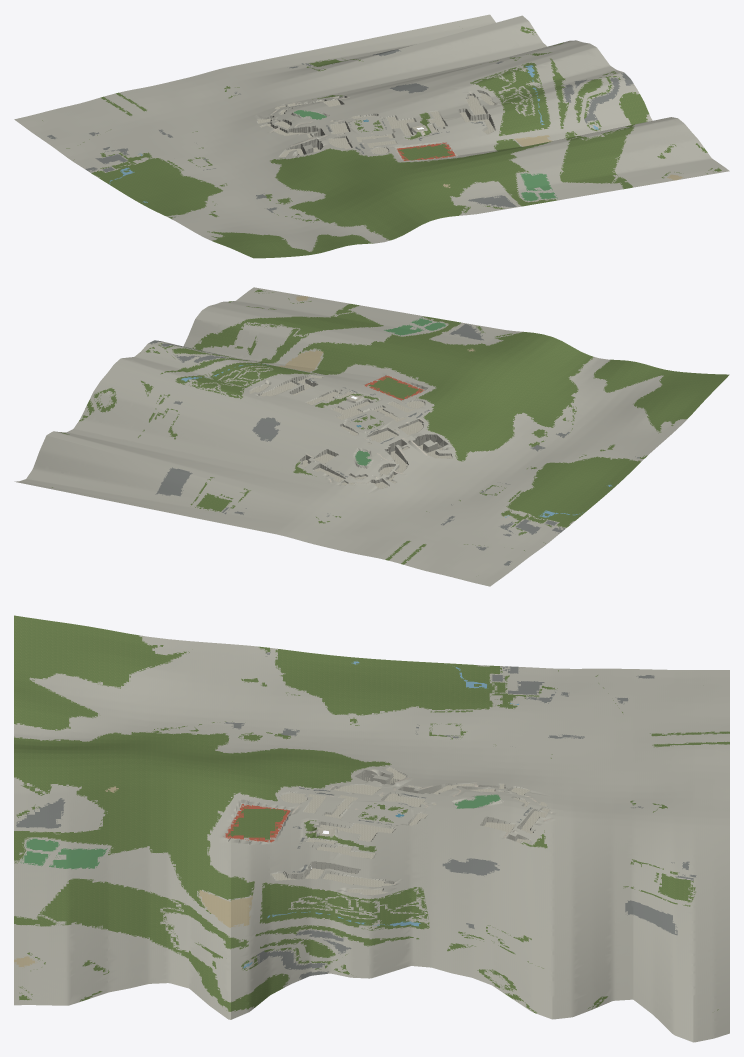
3 views of the same model, one above another, from view 1: azimuth 30°, elevation 25°; view 2: azimuth 150°, elevation 25°; view 3: azimuth 270°, elevation 25° (orthographic). The views are drawn at different scales.
Visible parts, largest first — view 1: dongguk-base, dongguk-wood, dongguk-grass, dongguk-paving, dongguk-wood-overlay, dongguk-asphalt, dongguk-grass-overlay, dongguk-courtGreen, dongguk-asphalt-overlay, dongguk-pitchTurf, dongguk-garden-overlay, dongguk-garden; view 2: dongguk-base, dongguk-wood, dongguk-grass, dongguk-paving, dongguk-wood-overlay, dongguk-asphalt, dongguk-grass-overlay, dongguk-garden, dongguk-garden-overlay, dongguk-courtGreen, dongguk-dirtField, dongguk-pitchTurf (+1 smaller); view 3: dongguk-base, dongguk-wood, dongguk-grass, dongguk-paving, dongguk-wood-overlay, dongguk-asphalt, dongguk-courtGreen, dongguk-grass-overlay, dongguk-dirtField, dongguk-garden-overlay, dongguk-garden, dongguk-pitchTurf (+1 smaller).
Part boxes in pixels (x1,y1,x2,y2): dongguk-base: (14,14,729,251); dongguk-wood: (102,59,649,258); dongguk-grass: (91,53,644,220); dongguk-paving: (257,93,494,157); dongguk-wood-overlay: (92,58,647,255); dongguk-asphalt: (48,49,633,216); dongguk-grass-overlay: (42,52,642,220); dongguk-courtGreen: (294,110,556,201); dongguk-asphalt-overlay: (47,50,633,217); dongguk-pitchTurf: (399,144,452,160); dongguk-garden-overlay: (73,26,720,222); dongguk-garden: (101,29,721,220); dongguk-base: (14,287,686,586); dongguk-wood: (160,304,729,526); dongguk-grass: (143,362,640,564); dongguk-paving: (249,376,451,488); dongguk-wood-overlay: (158,304,706,527); dongguk-asphalt: (149,324,638,565); dongguk-grass-overlay: (52,362,634,561); dongguk-garden: (79,289,647,534); dongguk-garden-overlay: (61,290,644,543); dongguk-courtGreen: (355,318,445,465); dongguk-dirtField: (278,296,474,371); dongguk-pitchTurf: (368,377,418,398); dongguk-base: (14,635,729,1042); dongguk-wood: (14,615,677,1011); dongguk-grass: (165,649,729,997); dongguk-paving: (271,767,550,895); dongguk-wood-overlay: (14,626,690,1011); dongguk-asphalt: (16,653,695,979); dongguk-courtGreen: (24,794,499,869); dongguk-grass-overlay: (157,650,727,998); dongguk-dirtField: (14,787,251,966); dongguk-garden-overlay: (17,646,718,1012); dongguk-garden: (16,646,693,1013); dongguk-pitchTurf: (231,809,284,839).
Bounding box in the file's own units: 1256 × 136 × 1096.
25 materials, 17 textured.
